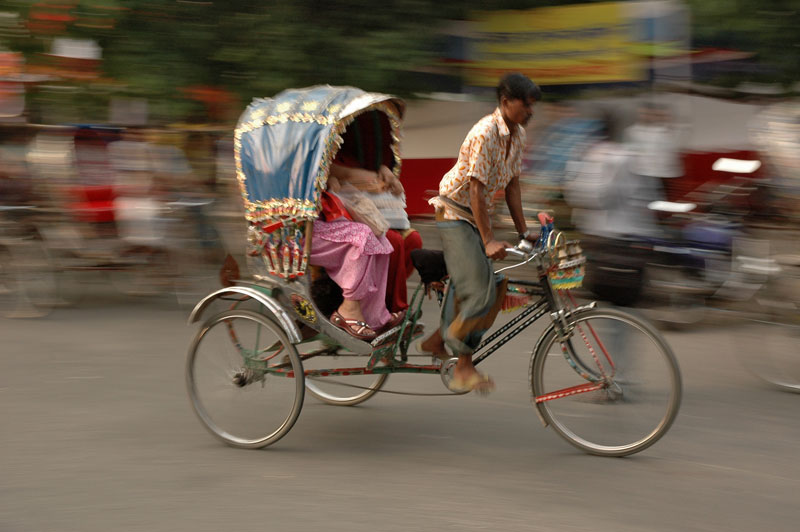Rickshaw: (187, 85, 685, 460)
